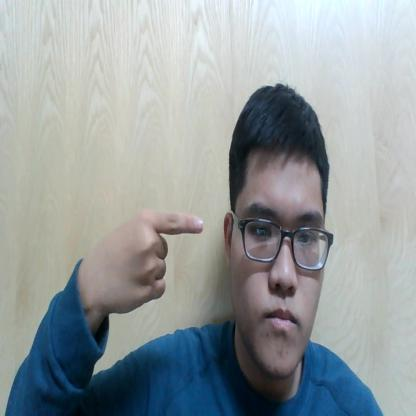left: (92, 200, 209, 323)
